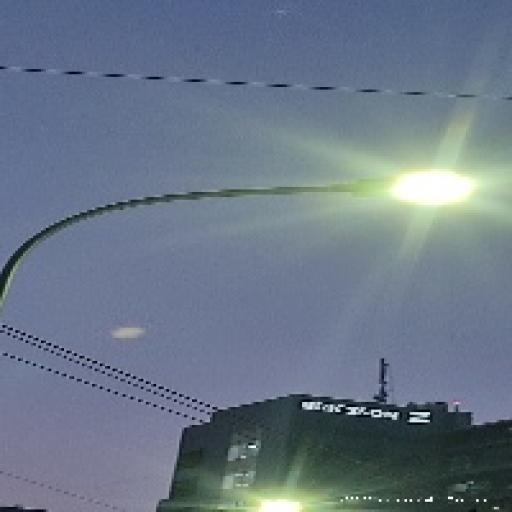Working: (350, 146, 483, 239)
